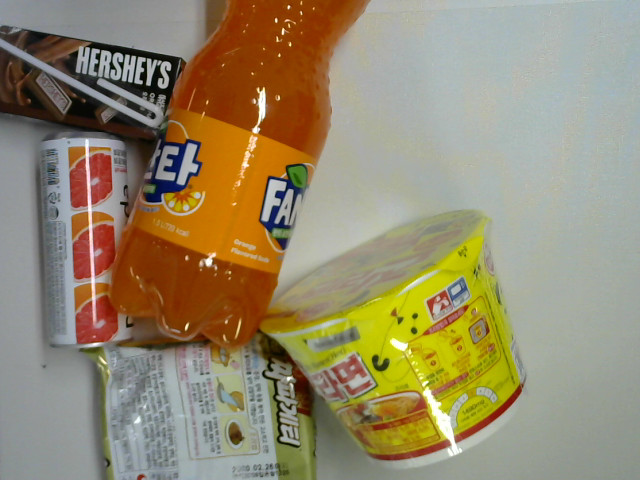Demisoda_Grapefruit_Can_250ml: (37, 128, 148, 353)
Hush_Choco_Drink: (1, 23, 189, 143)
Hwanta_Orange_1.5L: (108, 1, 367, 346)
Jinlamyeon_Hot_Taste_Large_Cup: (257, 207, 535, 472)
Olive_Chapaghetti: (87, 333, 318, 480)
